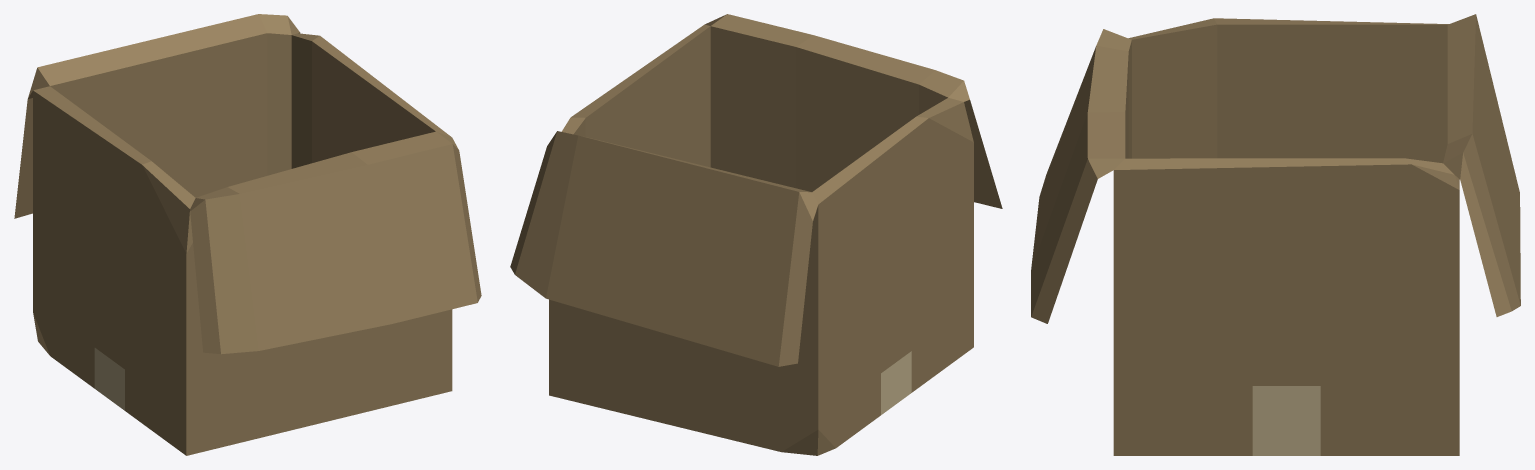
Rendered from SM_Prop_CardboardBox_04.fbx.
3 renders of one model, left to right at view 1: azimuth 30°, elevation 25°; view 2: azimuth 150°, elevation 25°; view 3: azimuth 270°, elevation 25°, orthographic. The views are drawn at different scales.
Parts seen in each view (by area): view 1: SM_Prop_CardboardBox_04; view 2: SM_Prop_CardboardBox_04; view 3: SM_Prop_CardboardBox_04.
Boxes of the visible parts, x1,y1,x2,y2 form: SM_Prop_CardboardBox_04: [14, 14, 481, 455]; SM_Prop_CardboardBox_04: [510, 14, 1002, 455]; SM_Prop_CardboardBox_04: [1031, 14, 1520, 455].
Bounding box in the file's own units: 55.19 × 48.37 × 70.8.
